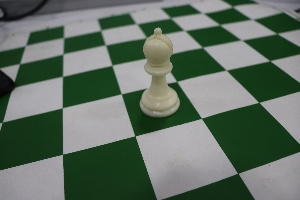white_bishop: (133, 14, 188, 120)
